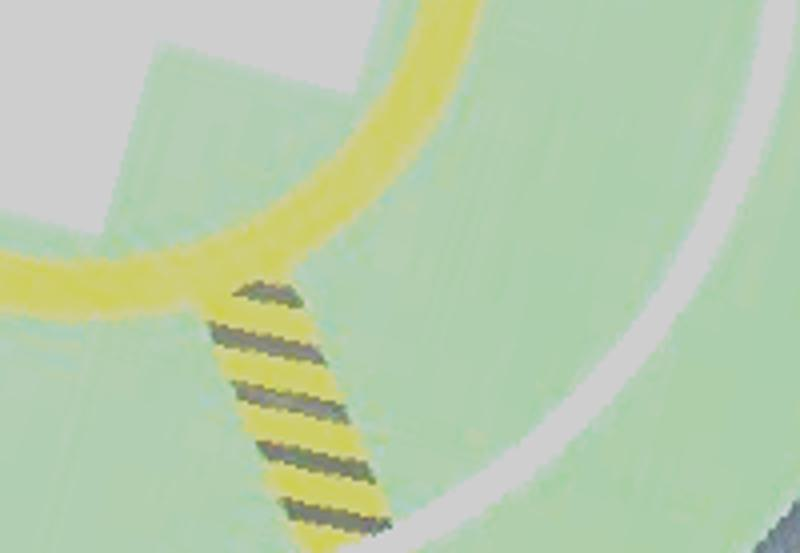Apron: (1, 1, 499, 332)
